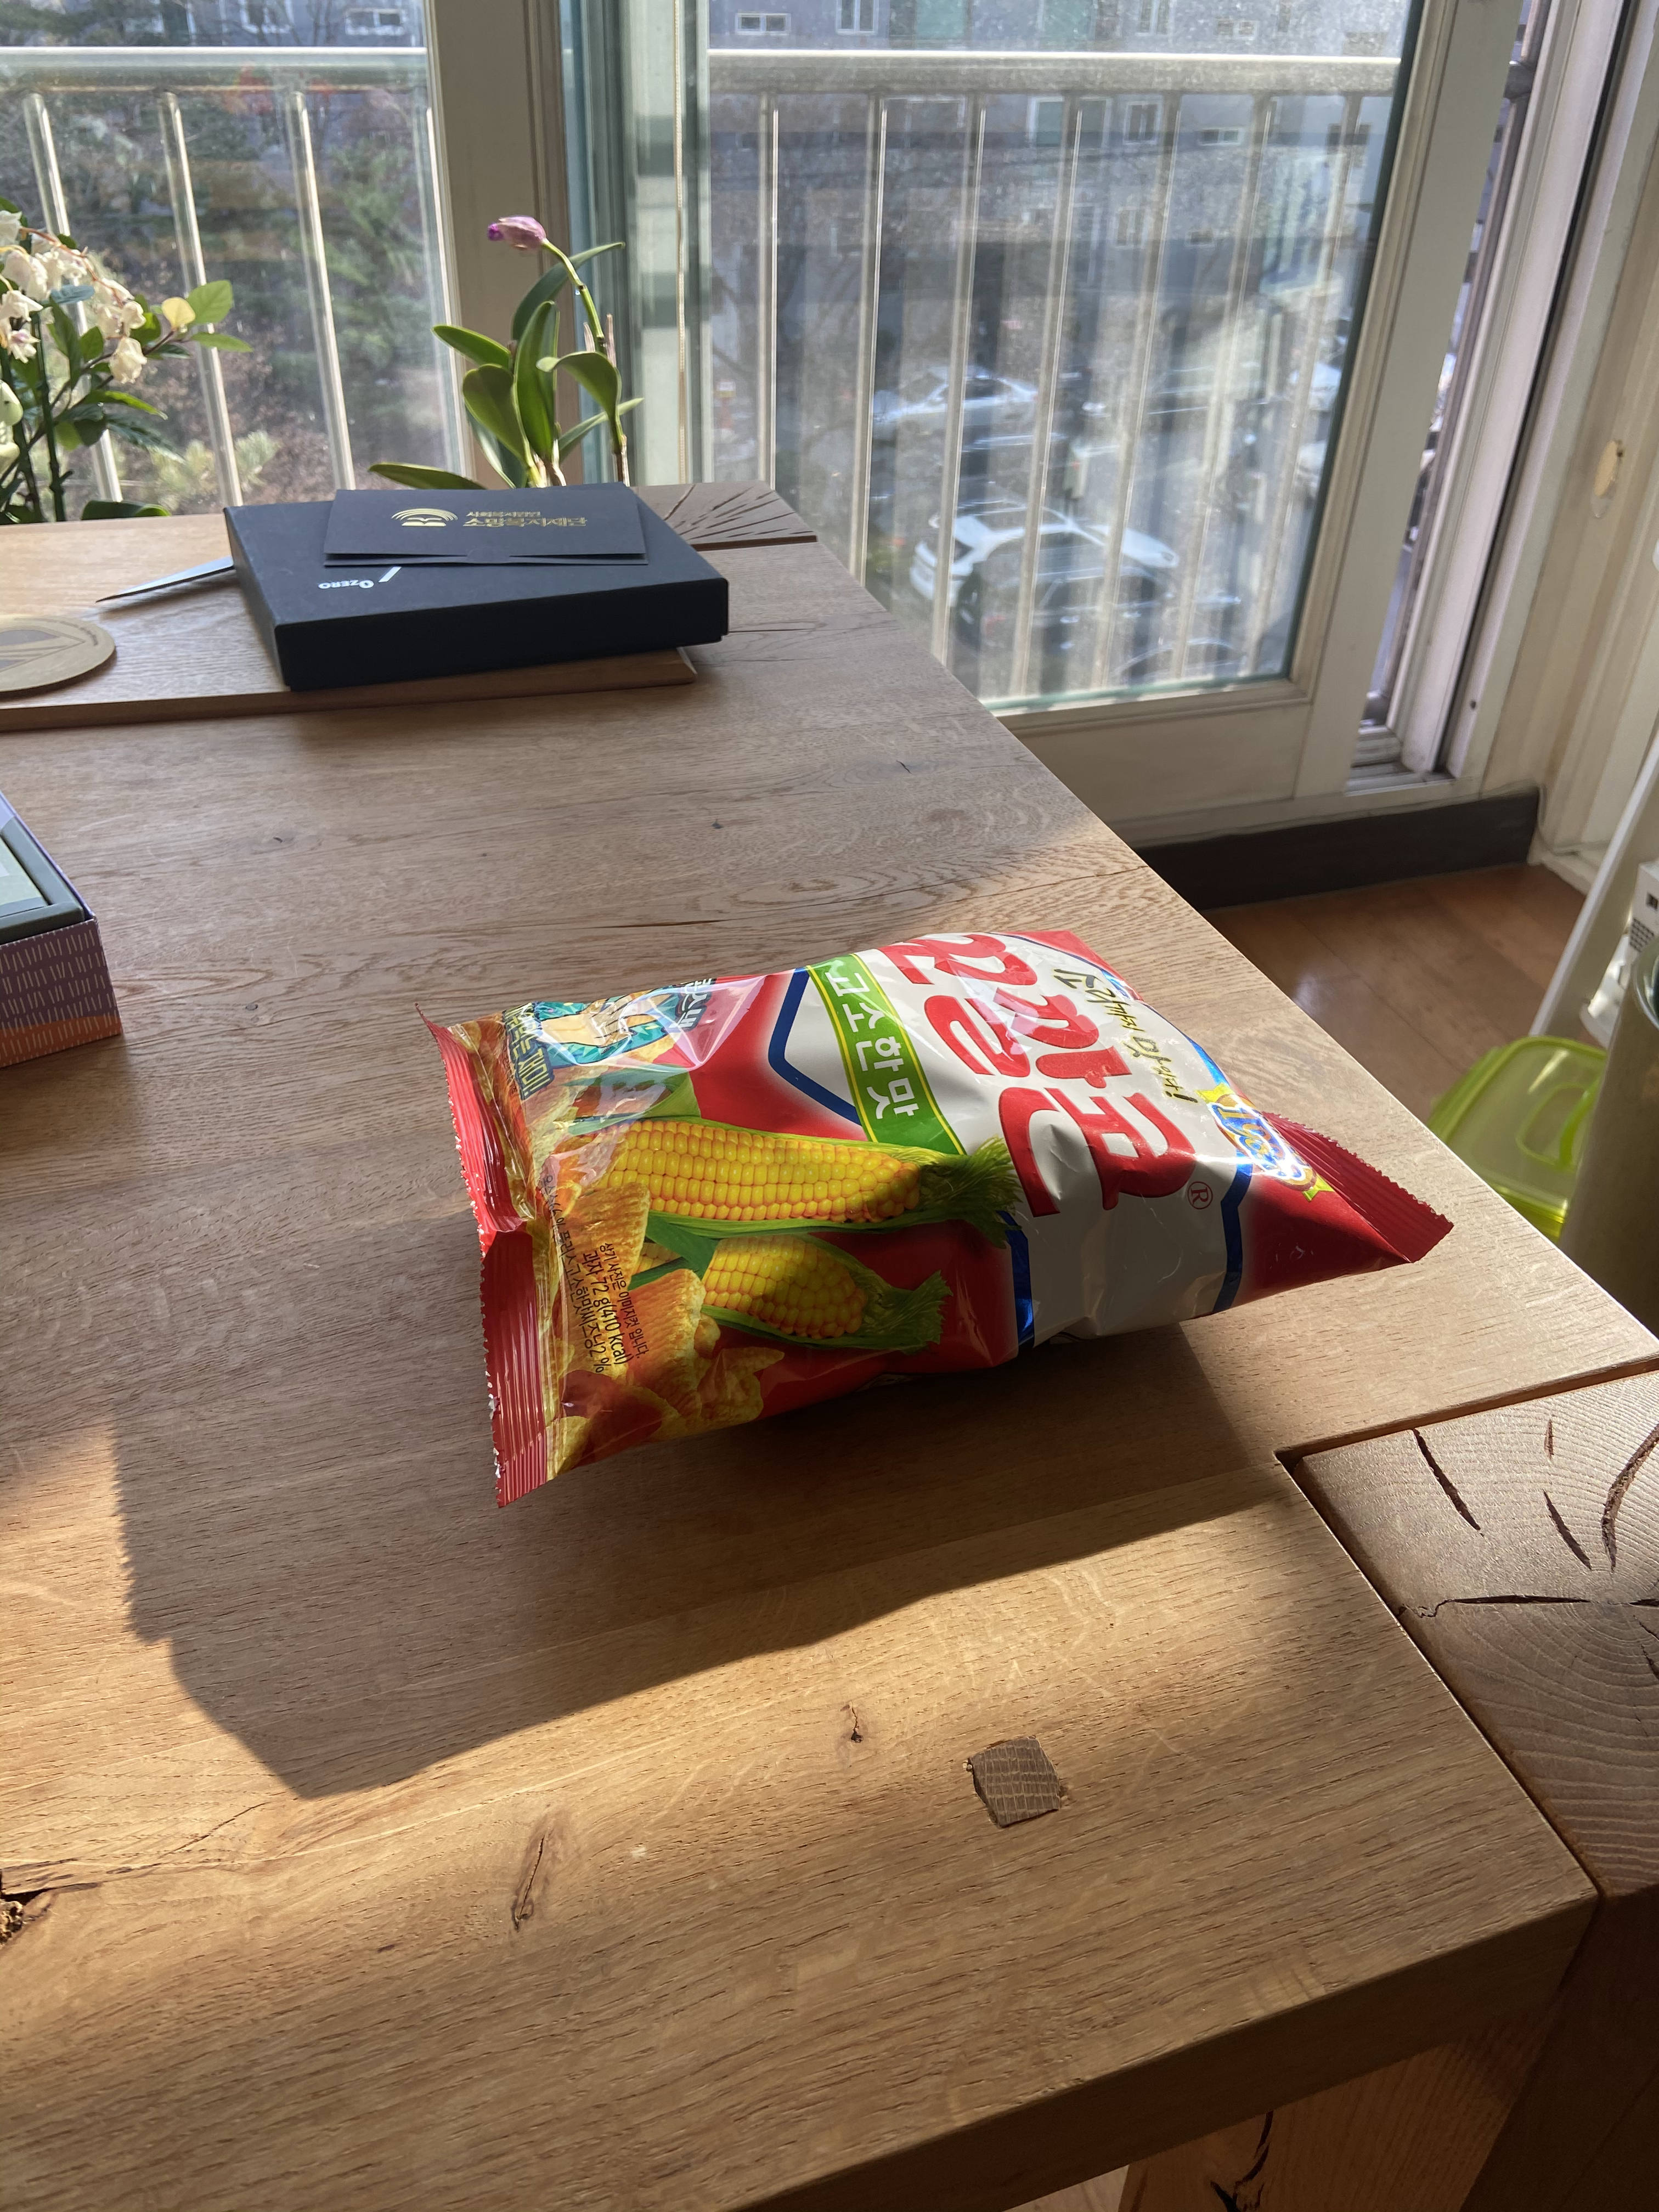ggoggalcon: (404, 895, 1476, 1541)
